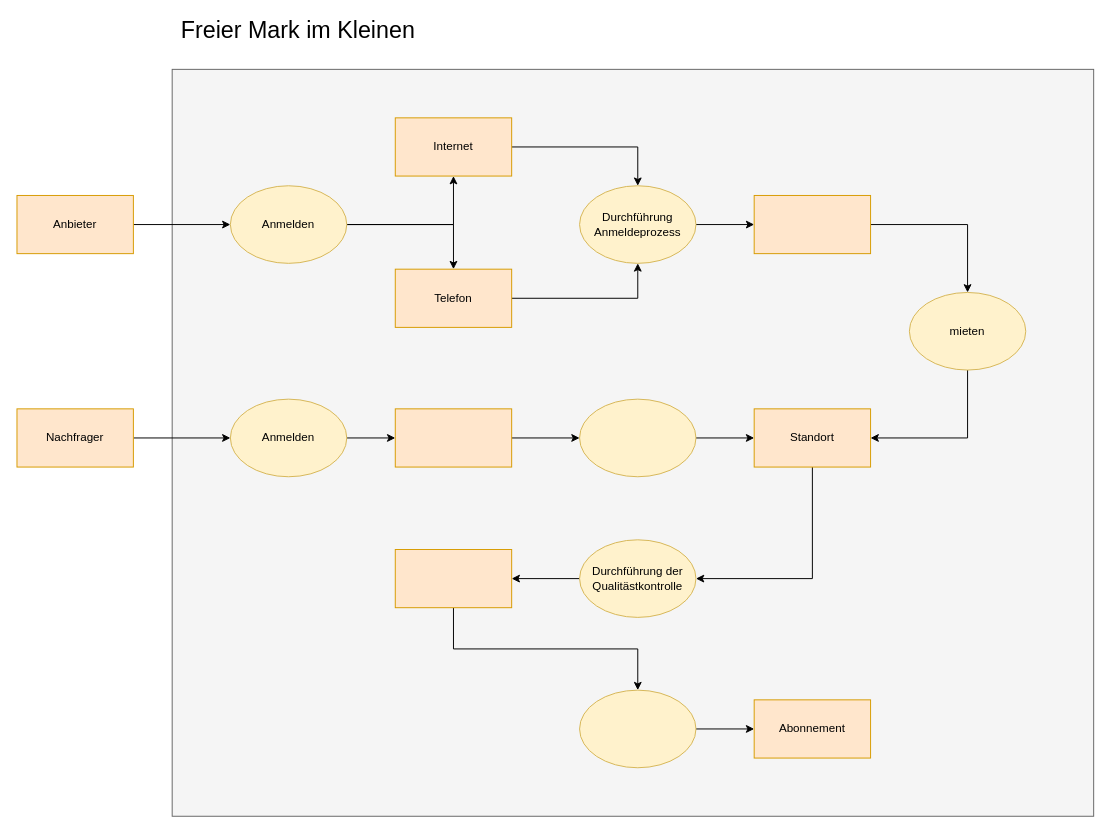
Some shapes in this 1111 by 833 pixel diagram are drawn without their labels. The shapes that lost their labels are listed below. From the top down, each one's box as (x1, y1, x2, y2) in pixels, then its label:
(753, 194, 871, 254): Mitglied Provisorisch
(394, 408, 512, 467): Anmeldeprofil
(579, 398, 696, 477): Anbieten
(394, 549, 512, 608): Status
(579, 689, 696, 768): lösen
